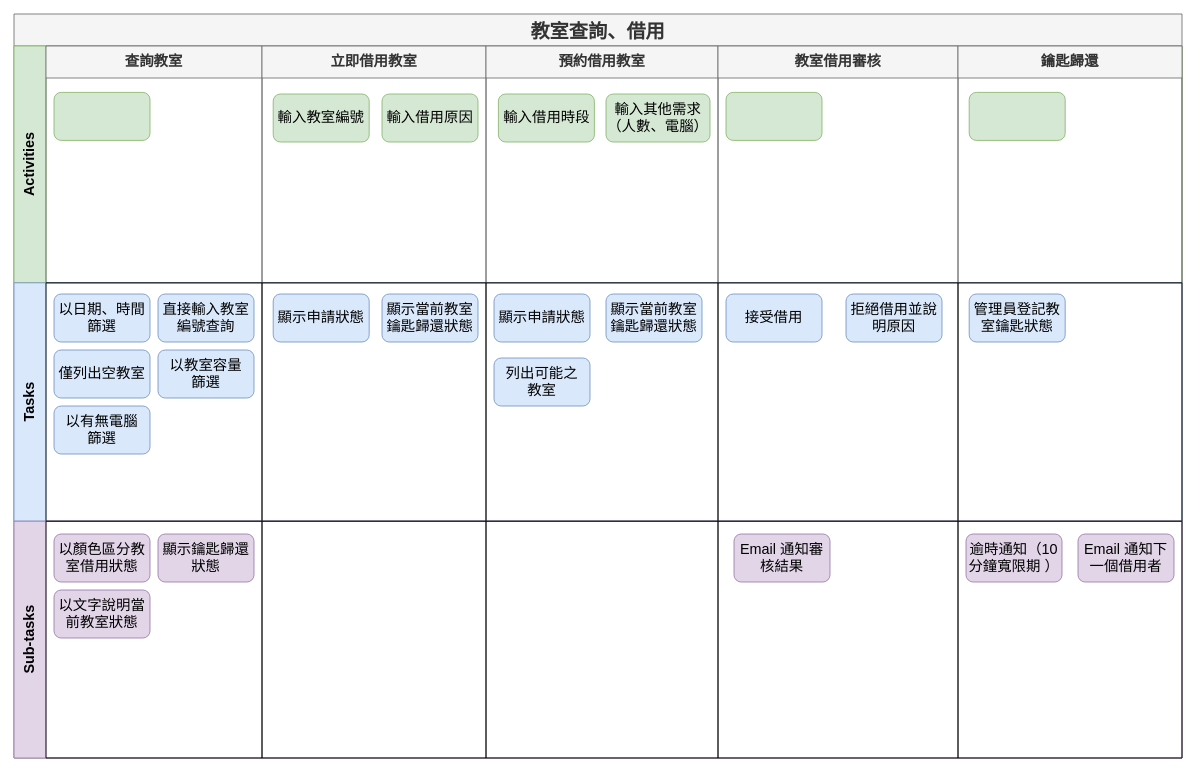
Image size: 1196x772. Some labels were removed from this diagram. Each missing label, with the centre of its shape:
"實際歸還鑰匙" belongs at (1016,116).
"查詢教室借用狀態" belongs at (101,116).
"選擇欲審核之申請" belongs at (773,116).
